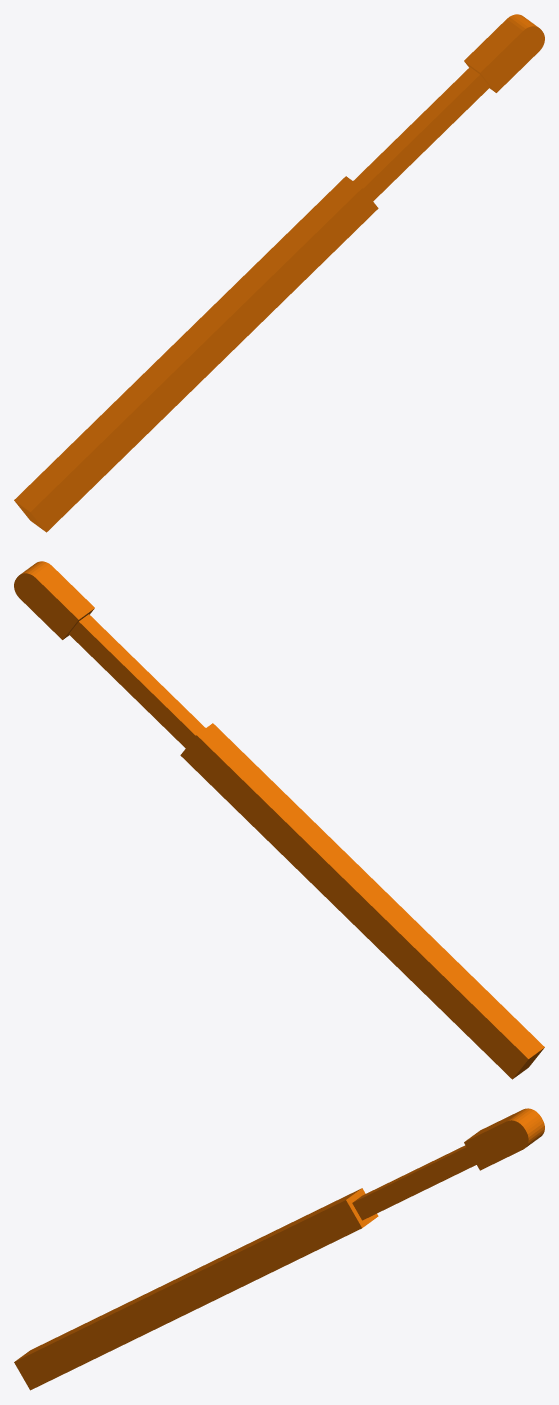
The model's file is hanger_2.fbx.
3 views of the same model, one above another, from view 1: azimuth 30°, elevation 25°; view 2: azimuth 150°, elevation 25°; view 3: azimuth 330°, elevation 25° (orthographic).
Visible parts, largest first — view 1: 立方体.302; view 2: 立方体.302; view 3: 立方体.302.
Boxes of the visible parts, x1,y1,x2,y2 form: 立方体.302: (14, 14, 544, 532); 立方体.302: (14, 561, 544, 1079); 立方体.302: (14, 1108, 544, 1390).
Bounding box in the file's own units: 120 × 2174 × 1566.
